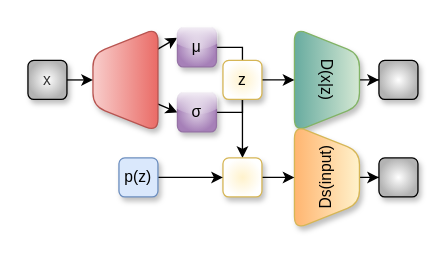
The diagram is 448 pixels wide and 261 high, and some of its shapes have lost their labels. The centre of each missing label's shape, as x and y in pixels:
"E(z|x)" goes at (x=126, y=81).
"input" goes at (x=243, y=178).
"real/ fake" goes at (x=399, y=178).
"x'" goes at (x=399, y=81).
